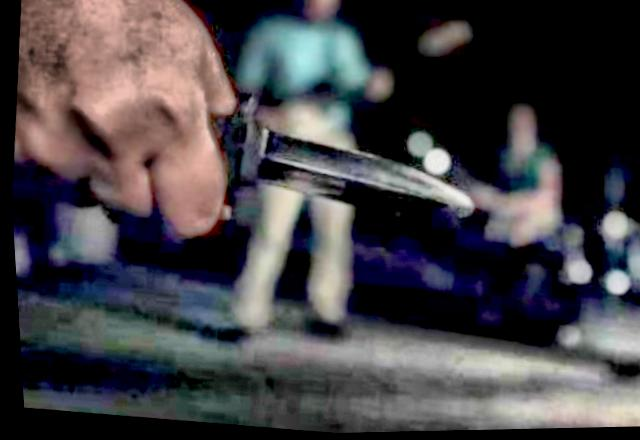knife: (64, 62, 506, 268)
